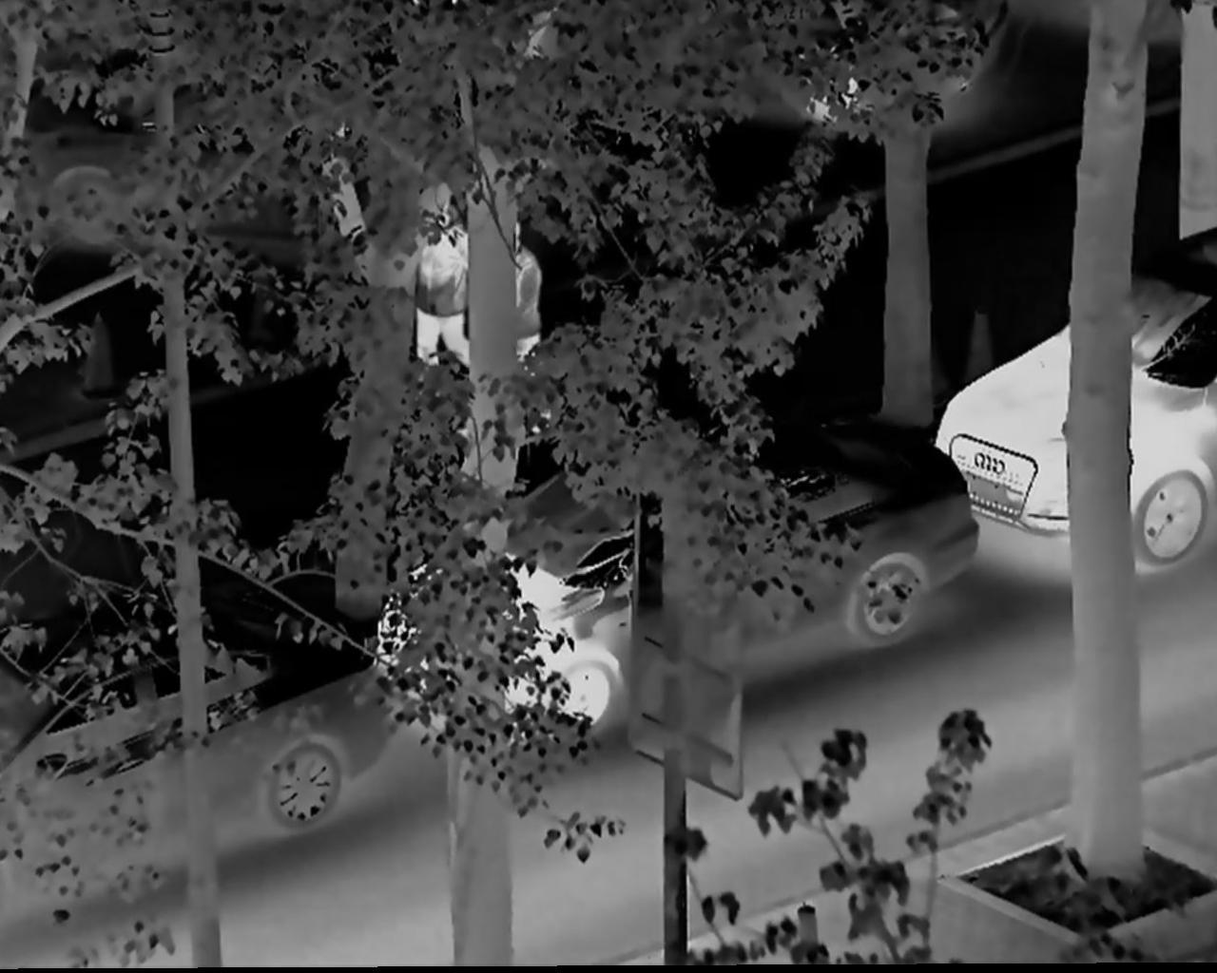person: (402, 177, 475, 383)
